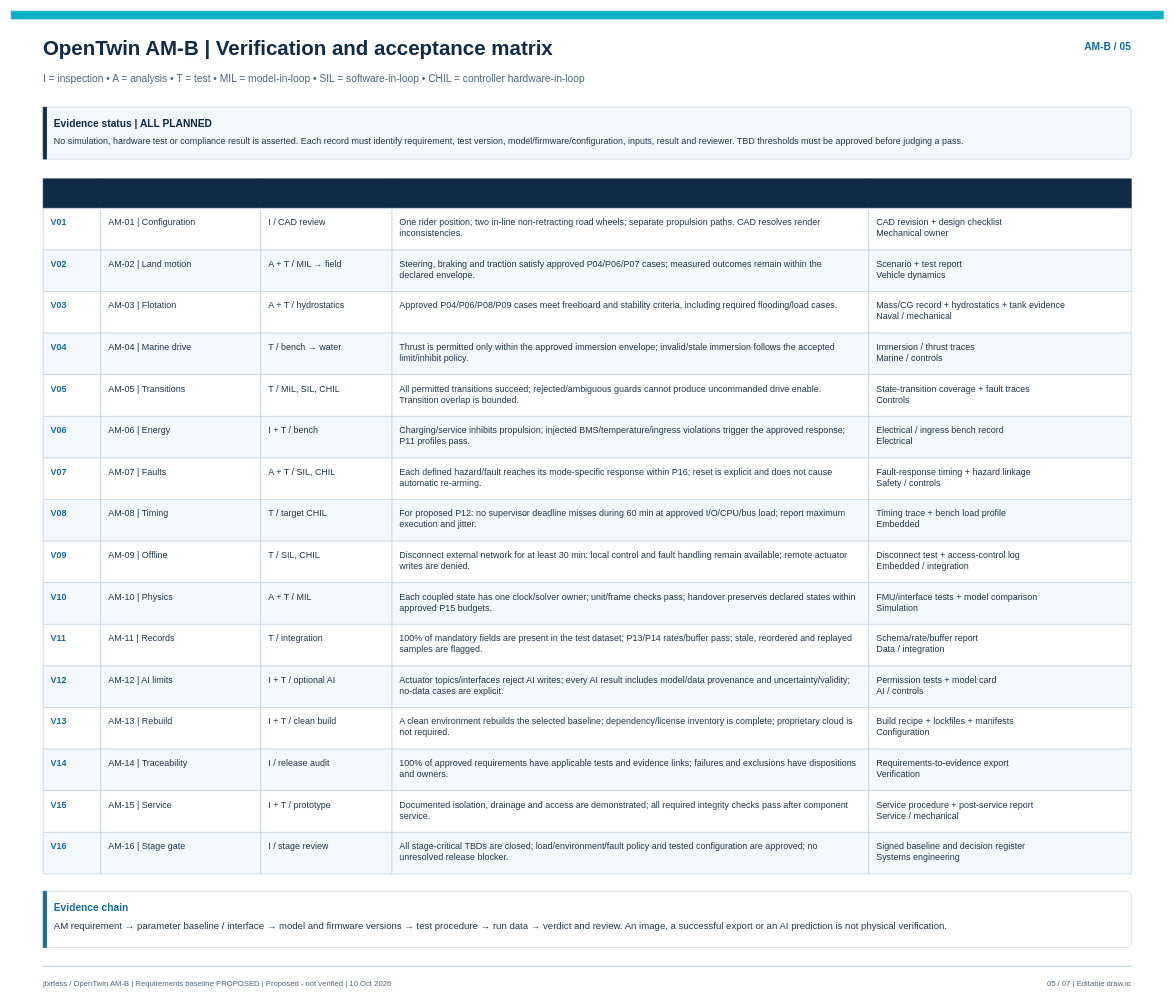
Some shapes in this 1175 by 1006 pixel diagram are drawn without their labels. Here are the shapes that lost their labels. From the top down, the box of each, then its label:
(42, 178, 101, 208): Test
(100, 178, 261, 208): Requirement
(260, 178, 392, 208): Method / stage
(391, 178, 869, 208): Acceptance criterion — planned
(868, 178, 1131, 208): Evidence / owner
